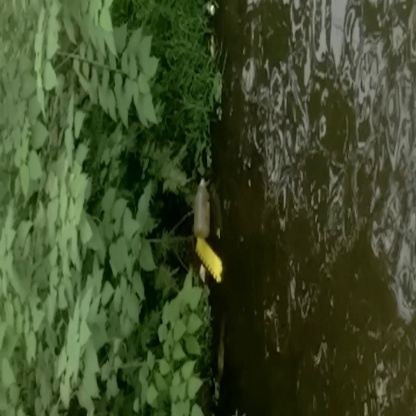bottle: (185, 176, 218, 238)
